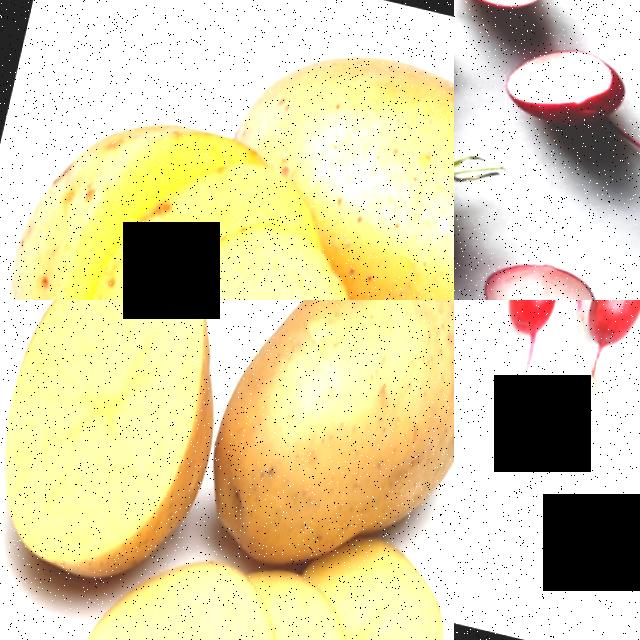potato: (0, 85, 367, 300), (191, 300, 454, 599), (0, 300, 258, 601), (354, 58, 454, 300)
radishes: (489, 23, 639, 134), (473, 239, 610, 300), (454, 119, 490, 243)
